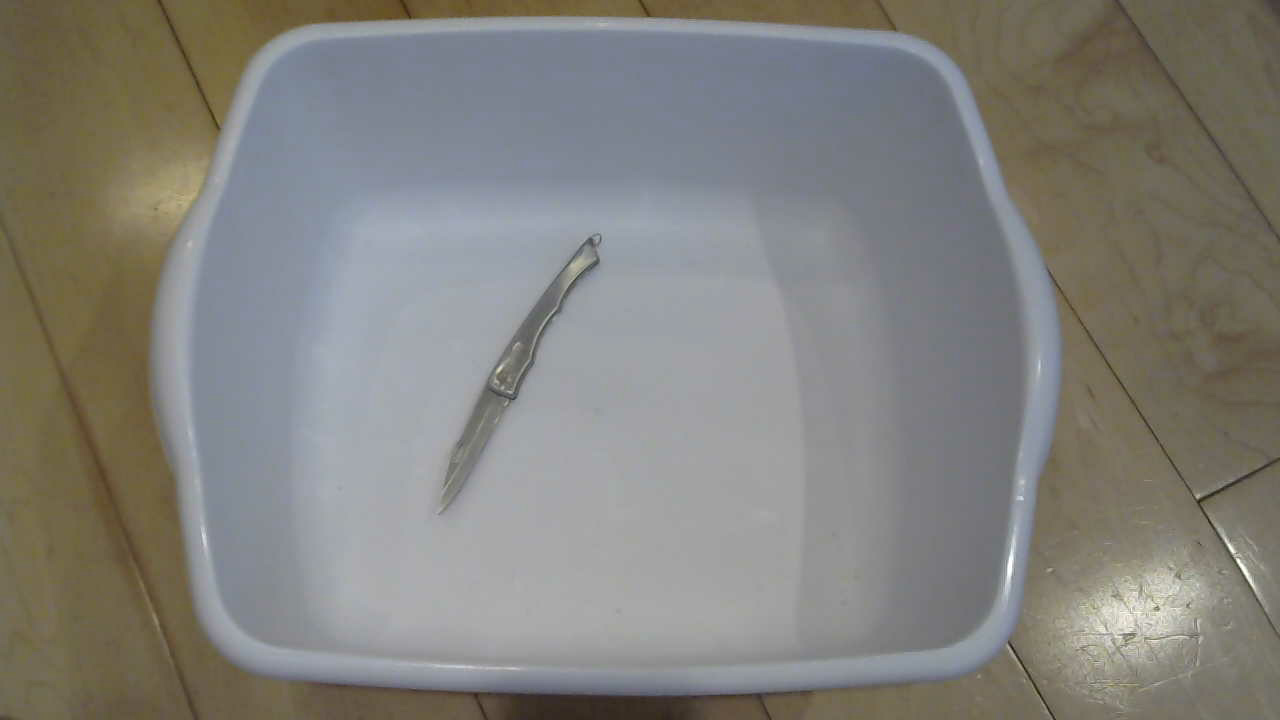knife: (420, 230, 613, 527)
